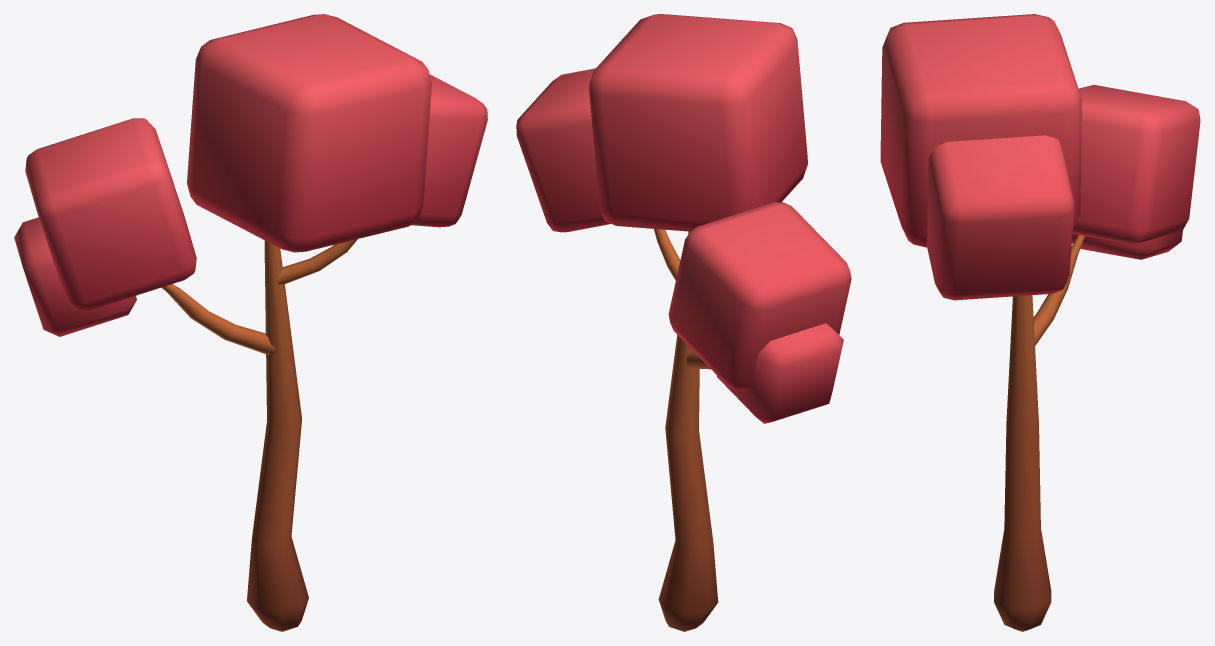
The model's file is Tree_2_C_Color7.fbx.
The picture shows the model from 3 angles, left to right: view 1: azimuth 30°, elevation 25°; view 2: azimuth 150°, elevation 25°; view 3: azimuth 270°, elevation 25°; orthographic projection. The views are drawn at different scales.
Parts seen in each view (by area): view 1: Tree_2_C_Color7; view 2: Tree_2_C_Color7; view 3: Tree_2_C_Color7.
Boxes of the visible parts, x1,y1,x2,y2 form: Tree_2_C_Color7: (14,14,487,631); Tree_2_C_Color7: (516,14,851,631); Tree_2_C_Color7: (880,14,1200,631).
Size of the model in its own units: 4.6 by 6.92 by 3.4.
